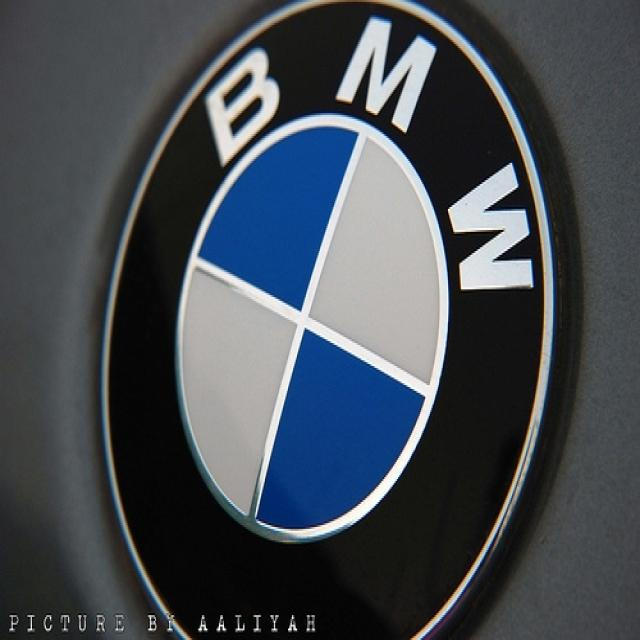bmw: (93, 3, 566, 639)
